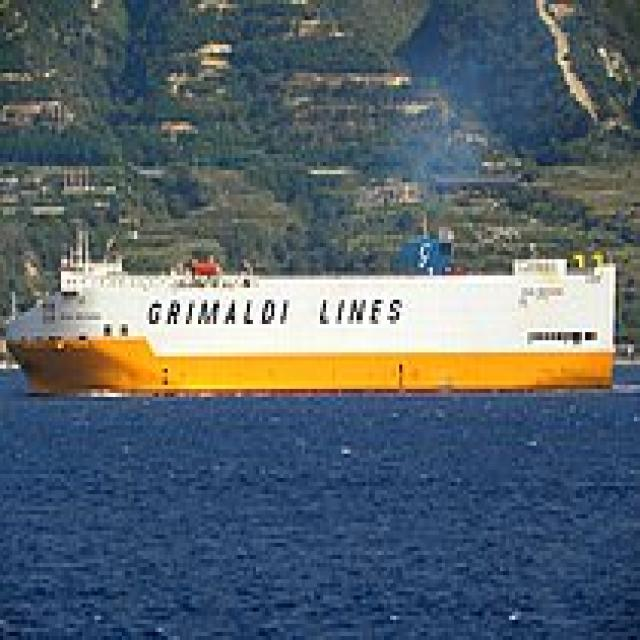Carrier: (0, 219, 619, 393)
